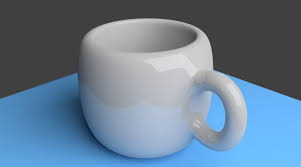cup: (75, 16, 250, 159)
